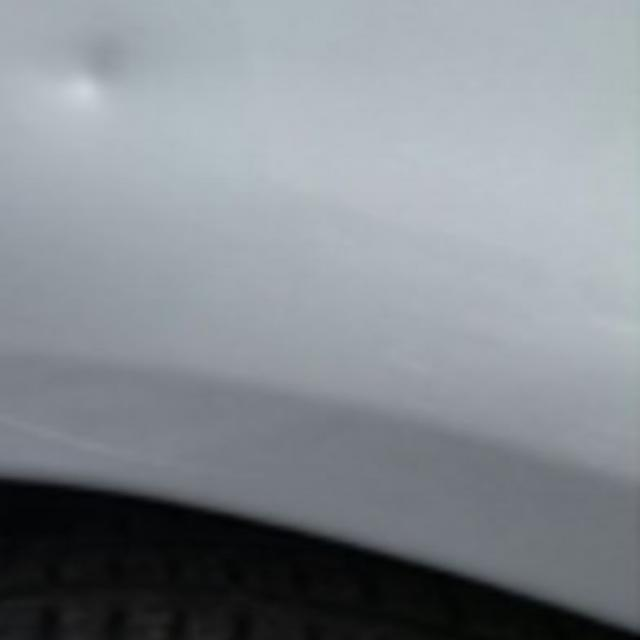dents: (37, 45, 214, 144)
